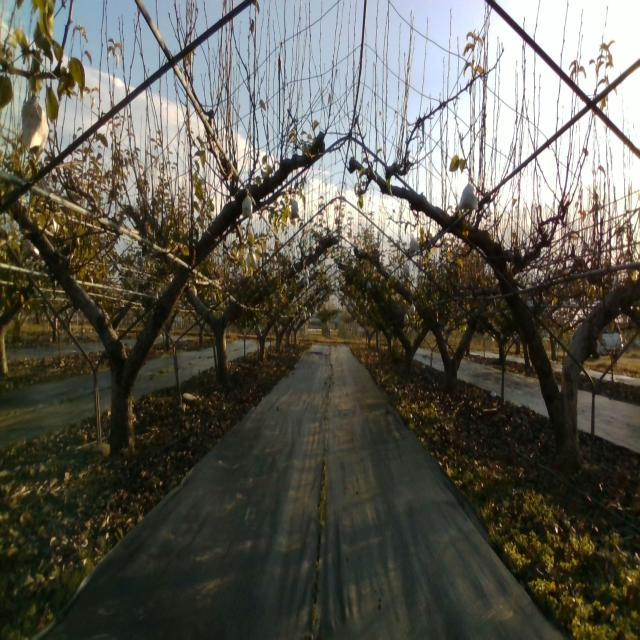pearbags: (20, 92, 50, 166), (457, 181, 479, 212), (241, 188, 253, 220), (289, 195, 300, 219), (409, 232, 420, 256)
